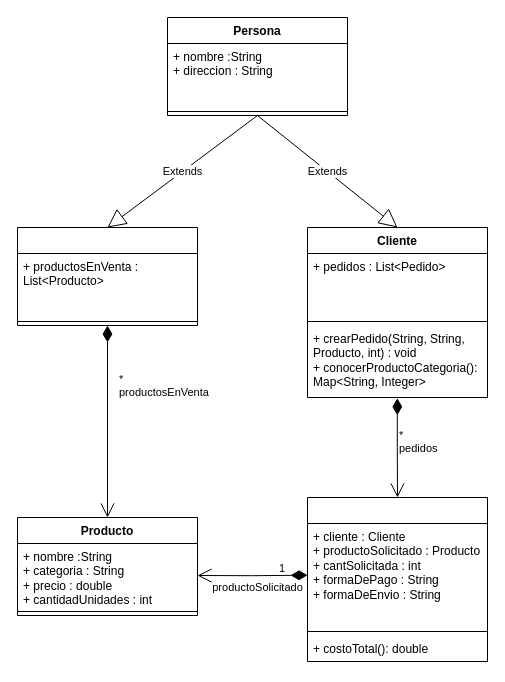
The diagram is 505 pixels wide and 682 high, and some of its shapes have lost their labels. The box of each missing label's shape, as (x1, y1, x2, y2) in pixels:
Pedido: (306, 496, 488, 662)
Vendedor: (16, 226, 198, 326)
